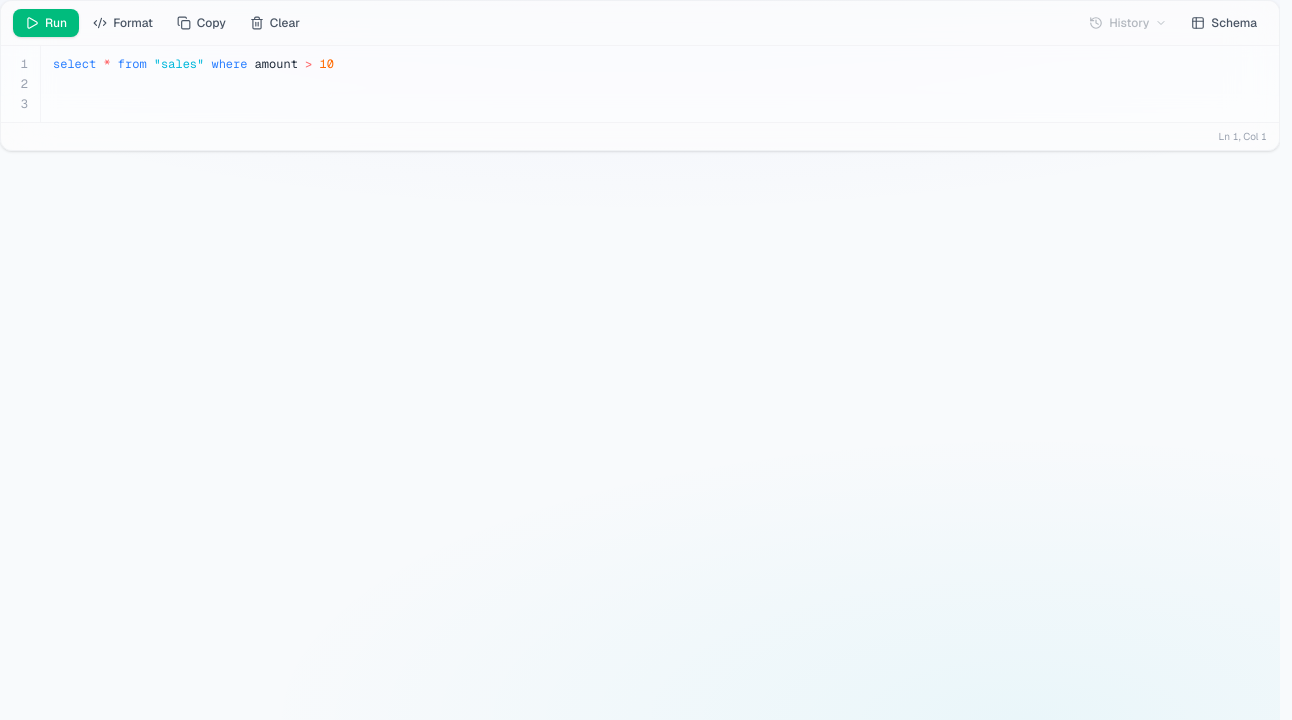
Test: SQLEditor › formats, copies, and clears SQL
The width and height of the screenshot is (1292, 720).
Click the button "Format" at point(123, 23), box 83,9 -> 163,37
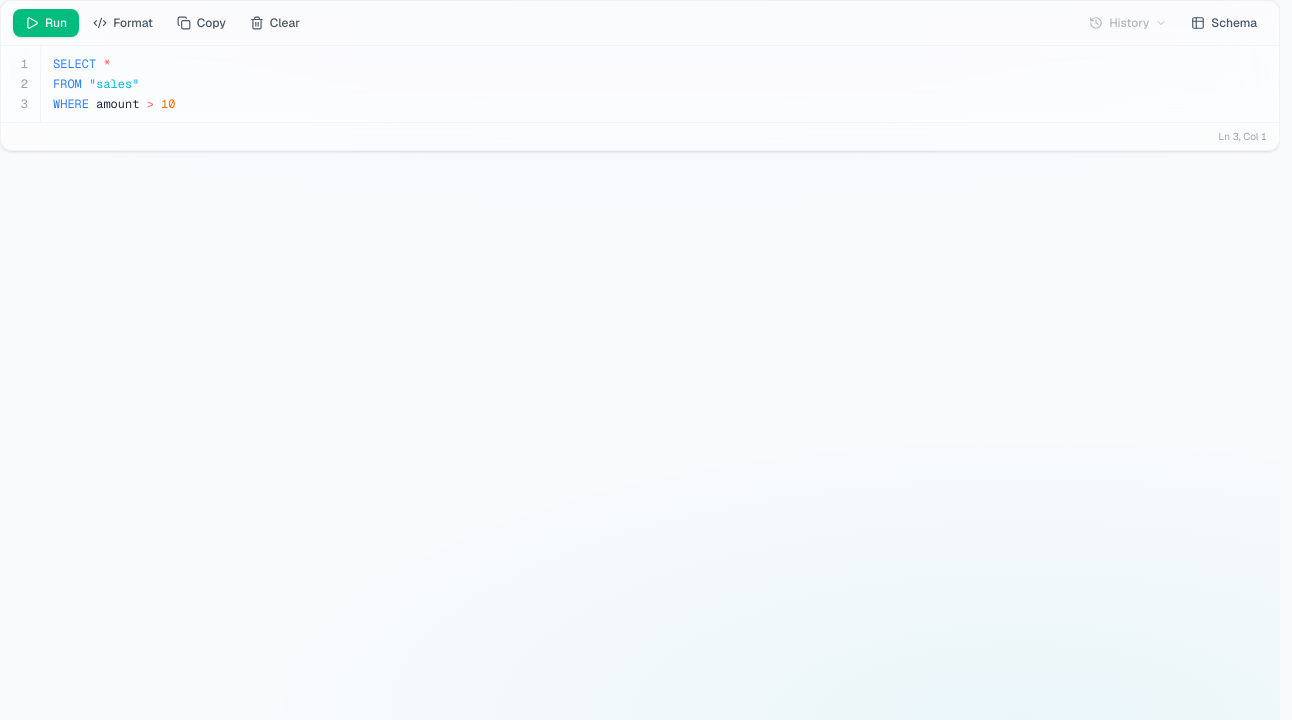
Click the button "Copy" at point(201, 23), box 167,9 -> 236,37
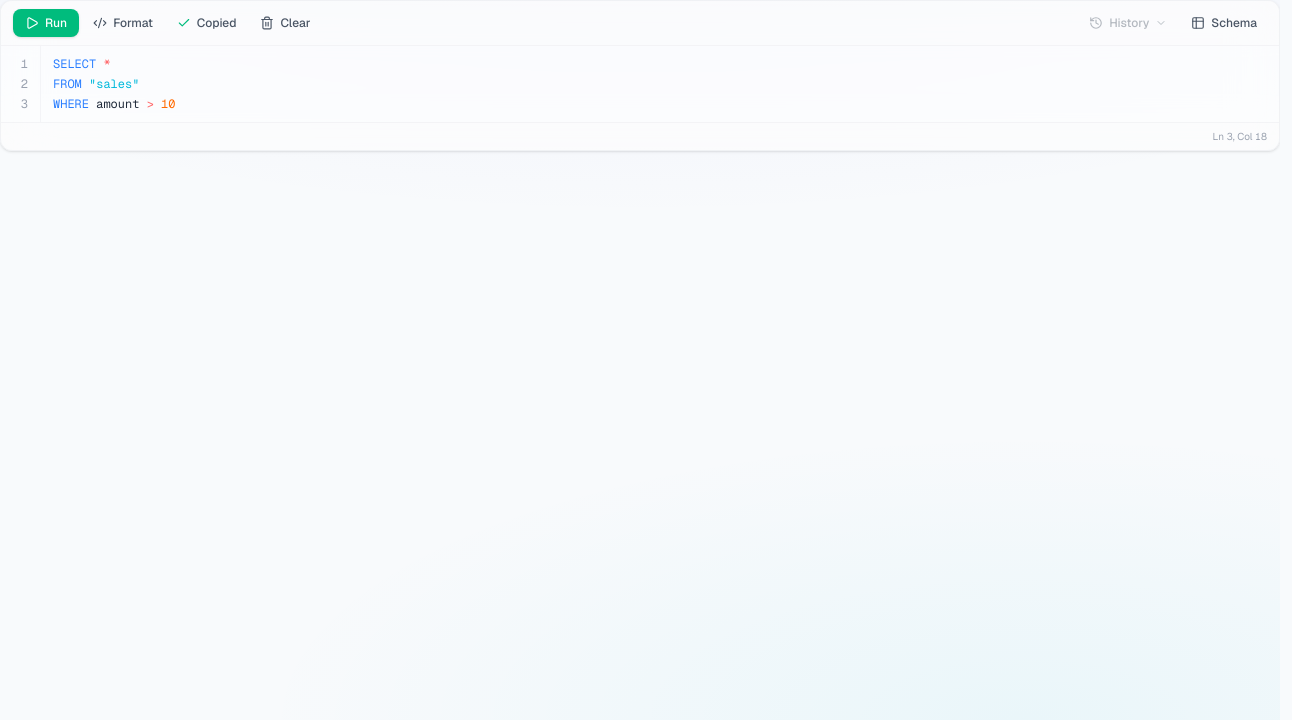
expect the button "Copied" is shown: met, box 167,9 -> 246,37
Click the button "Clear" at point(285, 23), box 250,9 -> 320,37
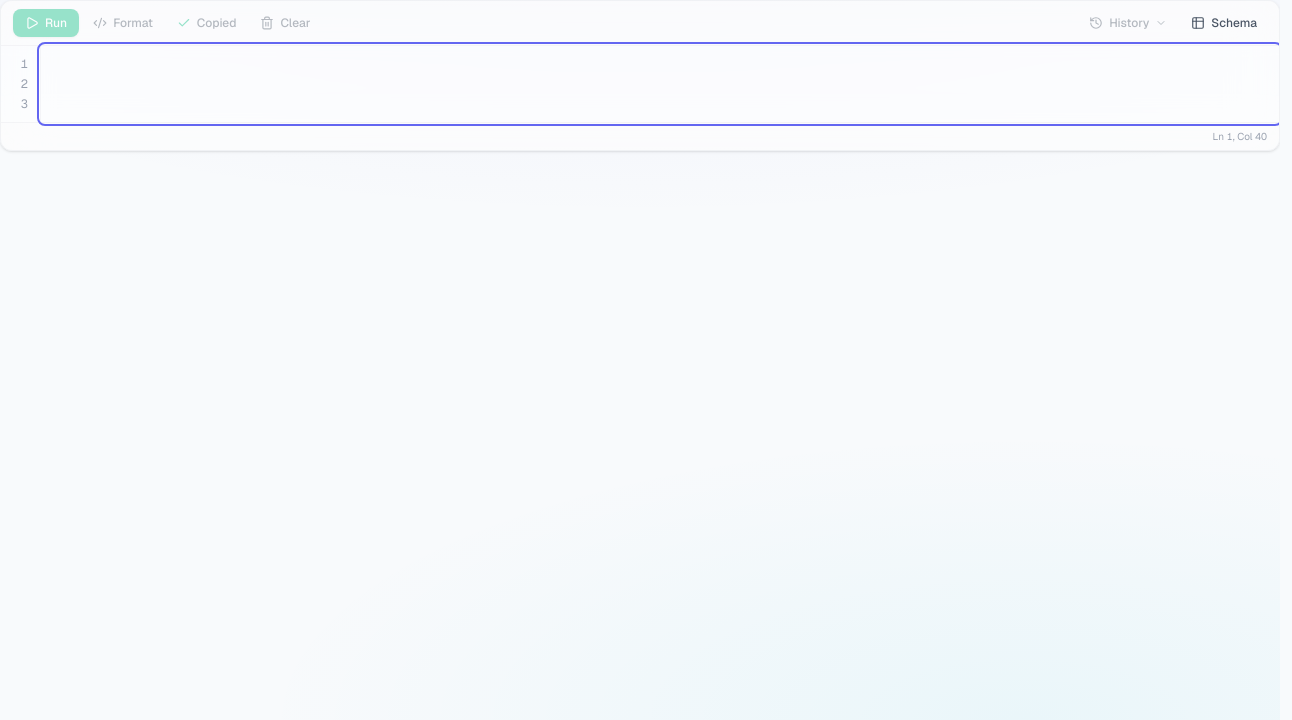
expect the text box with placeholder "Write your SQL query here..." is empty: met, box 41,46 -> 1279,122
expect the button "Run" is disabled: met, box 13,9 -> 79,37
